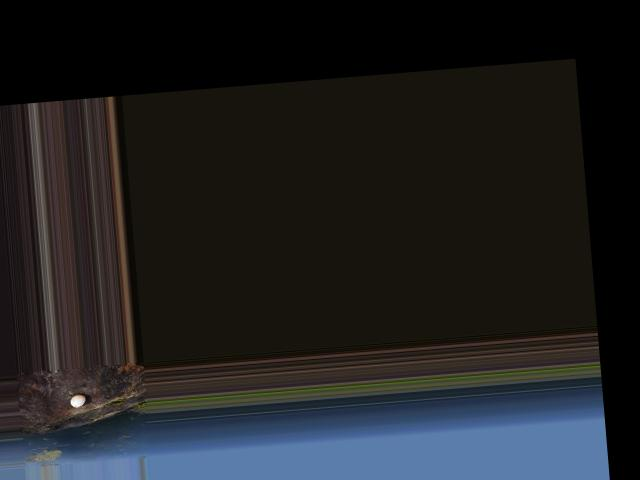egg: (68, 393, 85, 407)
